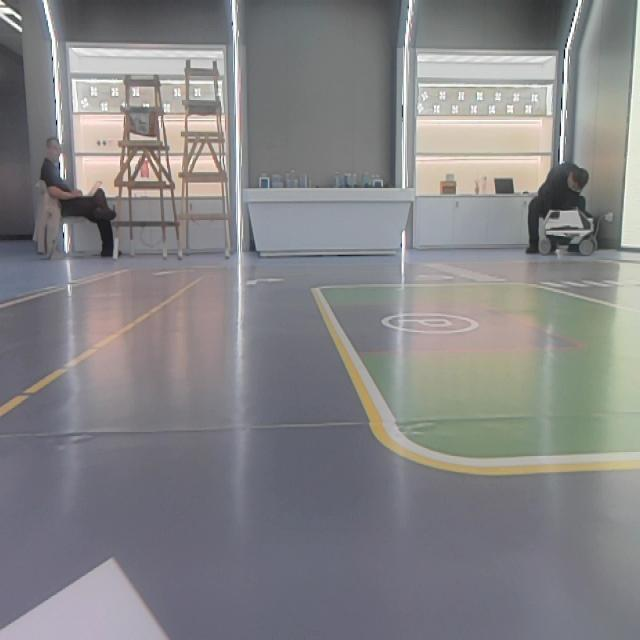left_lane: (0, 276, 191, 423)
right_lane: (317, 295, 406, 439), (0, 269, 129, 312)
